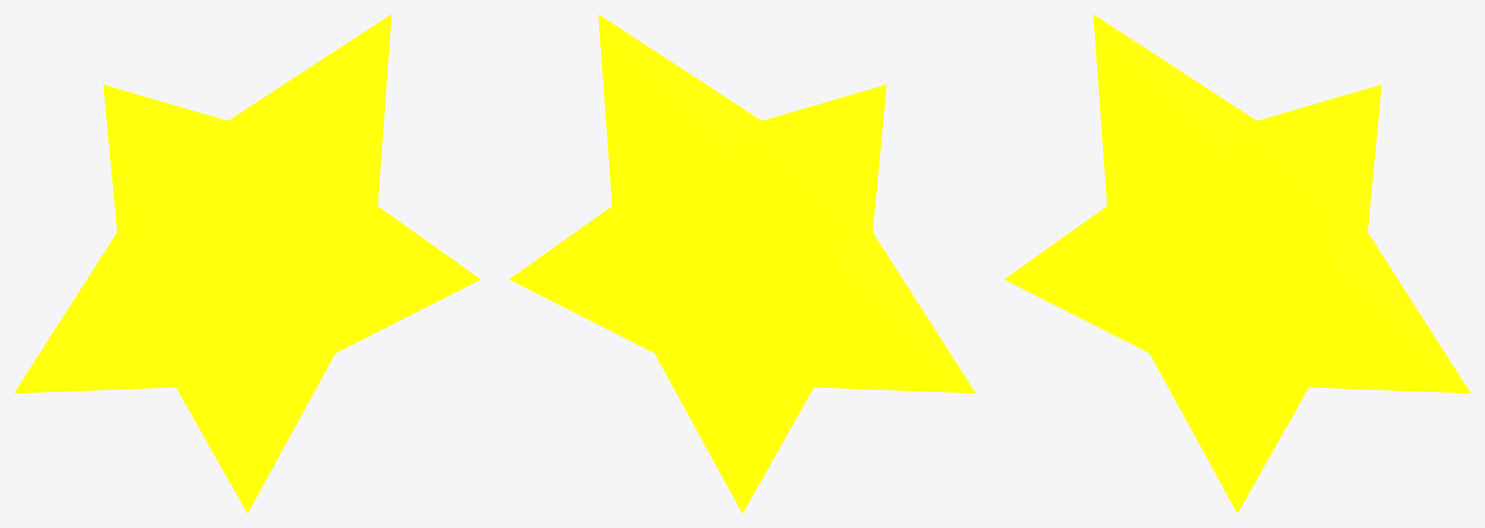
The model's file is star.fbx.
The picture shows the model from 3 angles, left to right: view 1: azimuth 30°, elevation 25°; view 2: azimuth 150°, elevation 25°; view 3: azimuth 330°, elevation 25°; orthographic projection.
Visible parts, largest first — view 1: Circle.001; view 2: Circle.001; view 3: Circle.001.
Boxes of the visible parts, left/top/right/bottom form: Circle.001: left=14, top=14, right=480, bottom=513; Circle.001: left=509, top=14, right=975, bottom=513; Circle.001: left=1004, top=14, right=1470, bottom=513.
Size of the model in its own units: 190 by 181 by 27.6.
